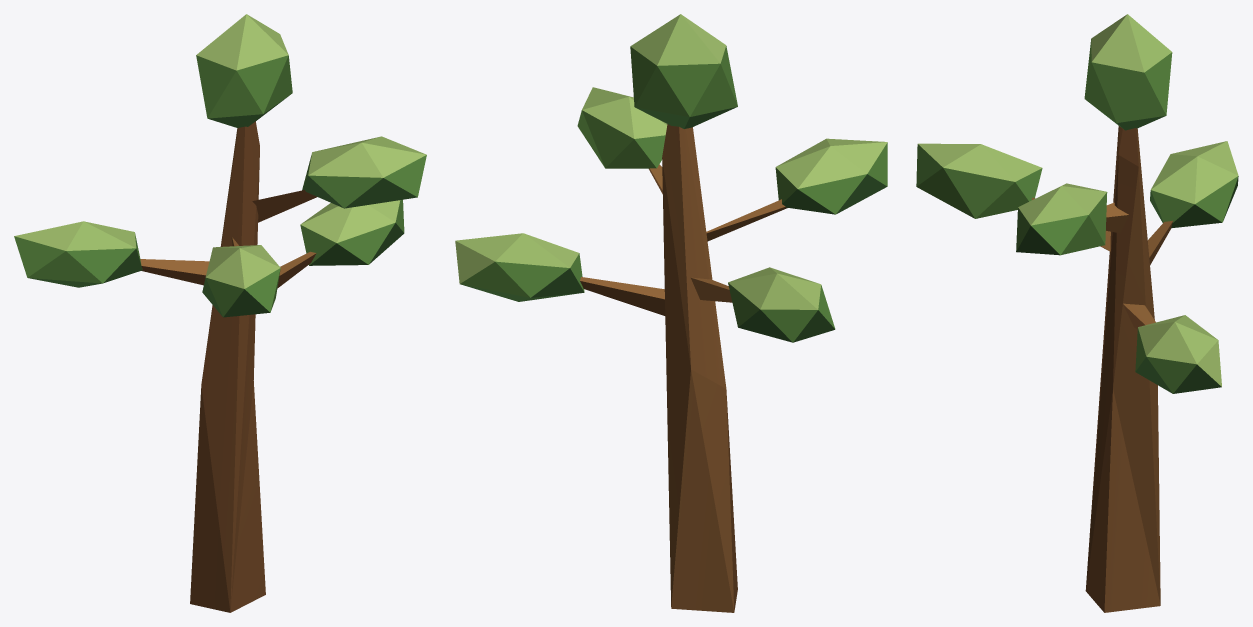
3 renders of one model, left to right at view 1: azimuth 30°, elevation 25°; view 2: azimuth 150°, elevation 25°; view 3: azimuth 270°, elevation 25°, orthographic. The views are drawn at different scales.
Parts seen in each view (by area): view 1: WK_Tree_Pine_Alpine_LOD2_Compact; view 2: WK_Tree_Pine_Alpine_LOD2_Compact; view 3: WK_Tree_Pine_Alpine_LOD2_Compact.
Boxes of the visible parts, <box> form: WK_Tree_Pine_Alpine_LOD2_Compact: <box>14,14,426,612</box>; WK_Tree_Pine_Alpine_LOD2_Compact: <box>455,14,887,612</box>; WK_Tree_Pine_Alpine_LOD2_Compact: <box>916,14,1238,612</box>.
Size of the model in its own units: 5.05 by 7.42 by 3.62.
